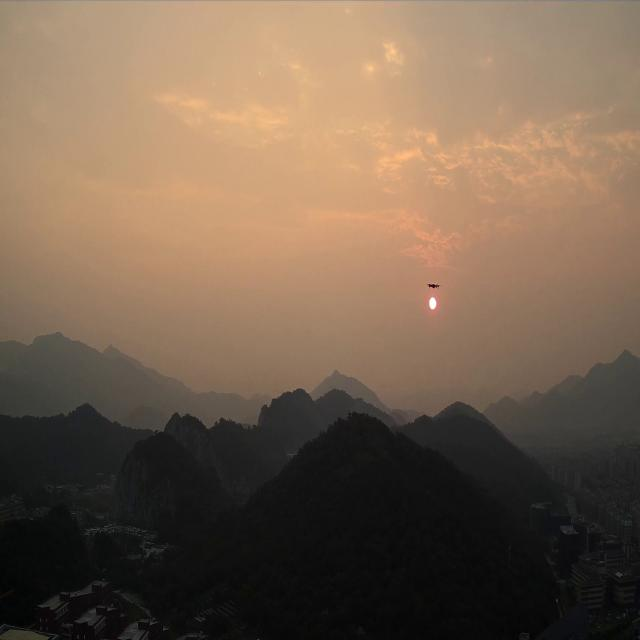UAV: (426, 282, 442, 290)
